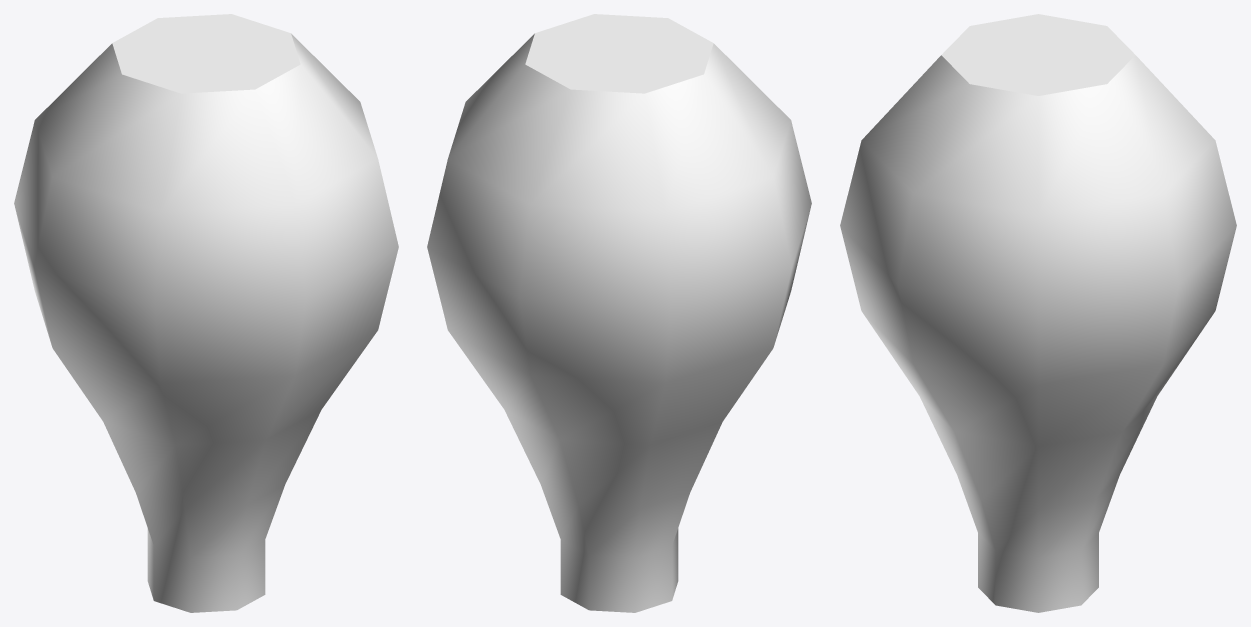
File: Itr_Lamp_Light_On_01.FBX
3 renders of one model, left to right at view 1: azimuth 30°, elevation 25°; view 2: azimuth 150°, elevation 25°; view 3: azimuth 270°, elevation 25°, orthographic.
Parts seen in each view (by area): view 1: Itr_Lamp_Light_On_01; view 2: Itr_Lamp_Light_On_01; view 3: Itr_Lamp_Light_On_01.
Boxes of the visible parts, box(x1,y1,x2,y2) form: Itr_Lamp_Light_On_01: box(14, 14, 398, 612); Itr_Lamp_Light_On_01: box(427, 14, 811, 612); Itr_Lamp_Light_On_01: box(840, 14, 1236, 612).
Bounding box in the file's own units: 1.89 × 2.8 × 1.89.
